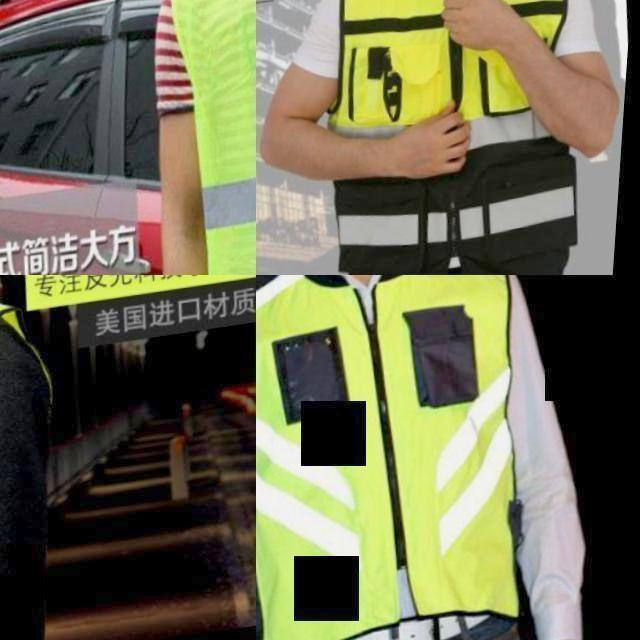vest: (256, 275, 554, 640), (321, 0, 588, 165), (165, 0, 256, 275), (0, 290, 55, 640)
